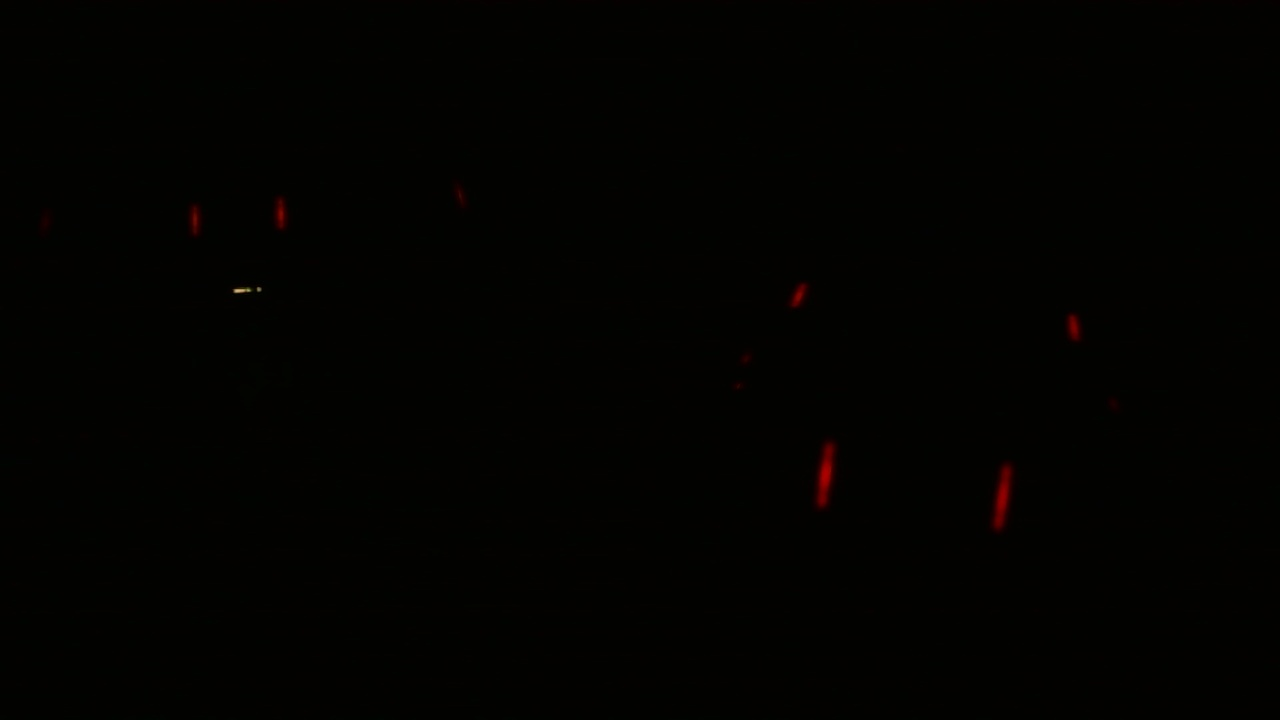pair1: (180, 184, 300, 253)
pair2: (805, 427, 1020, 537)
